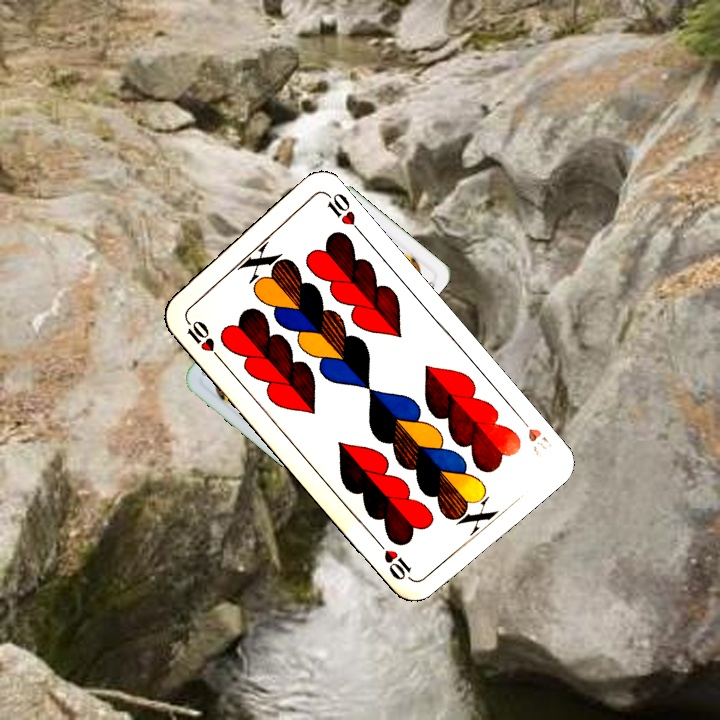H10: (513, 410, 555, 461), (180, 313, 223, 362)
